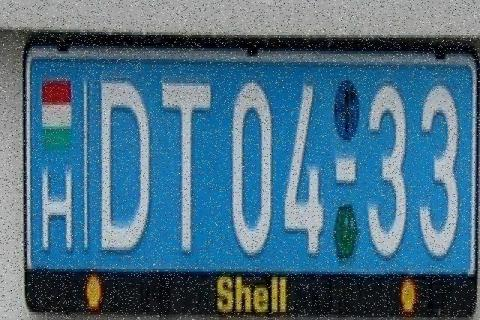LicensePlate: (13, 7, 480, 320)
